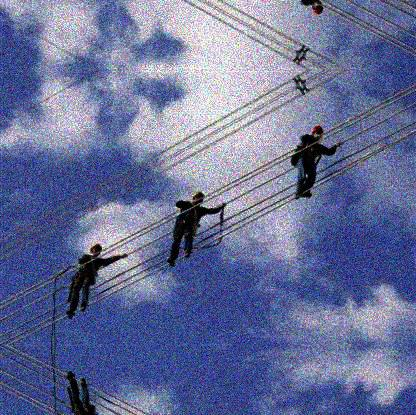helmet: (312, 1, 324, 17), (312, 125, 324, 140), (192, 191, 205, 203), (90, 241, 102, 253)
